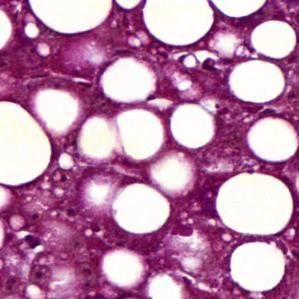steatosis: (214, 173, 294, 236), (0, 99, 51, 188), (141, 0, 214, 49), (228, 242, 287, 291), (27, 0, 114, 32), (227, 59, 286, 104), (245, 116, 299, 162)
